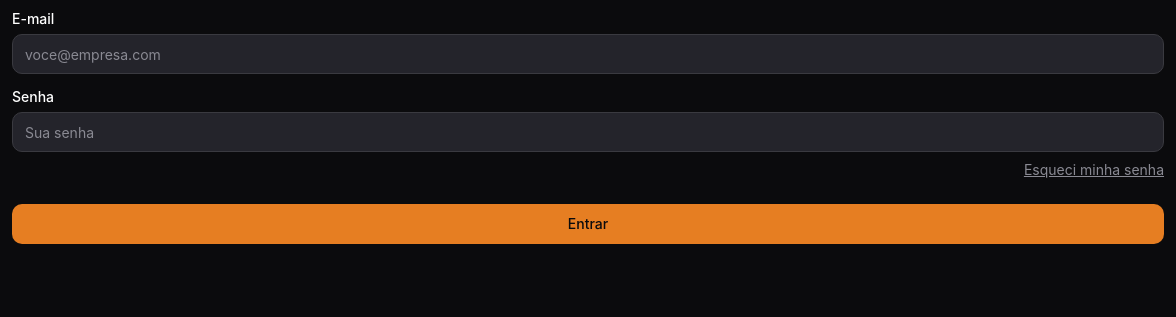
Test: LoginForm › mostra erros de validação ao submeter vazio
This screenshot has width=1176, height=317.
Click the button "Entrar".
click(588, 224)  # box x1=12 y1=204 x2=1164 y2=244
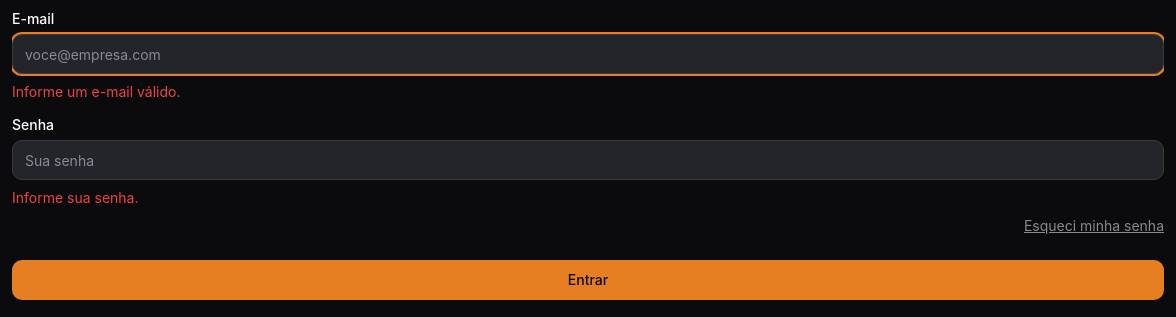
Now the text "Informe um e-mail válido." is shown, box x1=12 y1=83 x2=180 y2=100
